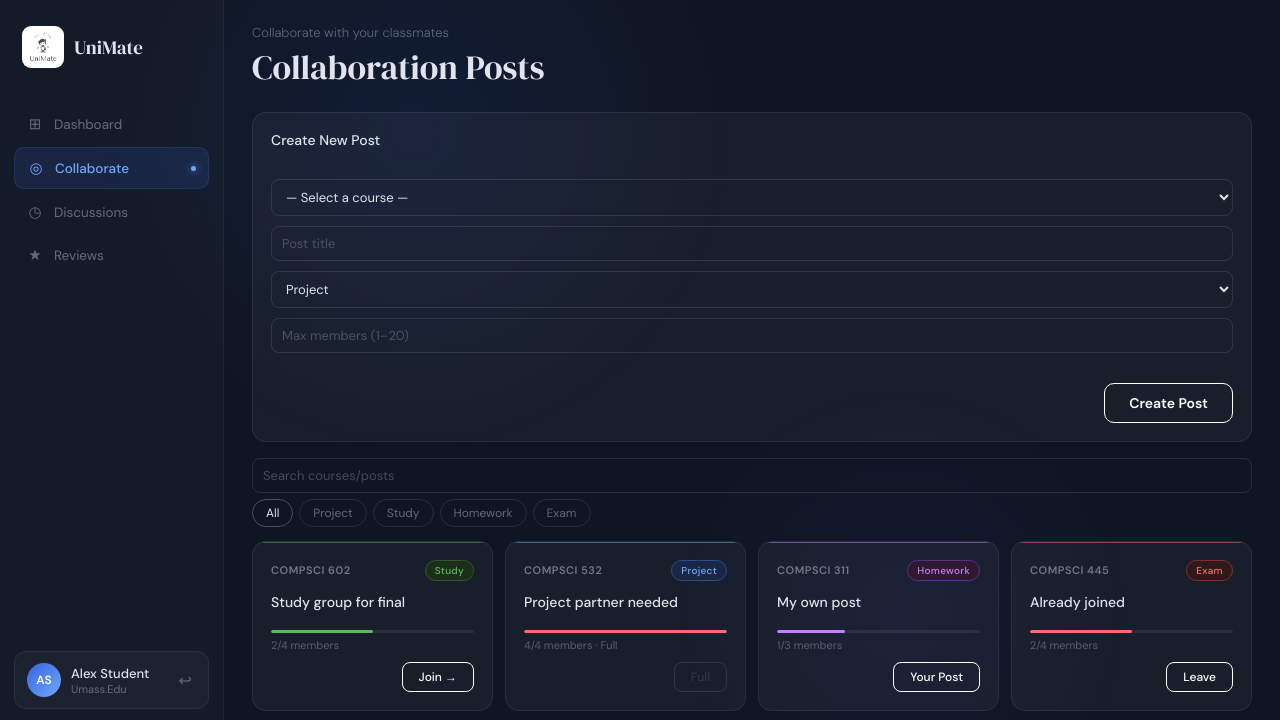
Test: CollaboratePage › author post › closes modal when Escape key pressed
Click the button "Your Post" at (937, 677), box [893, 662, 980, 692]
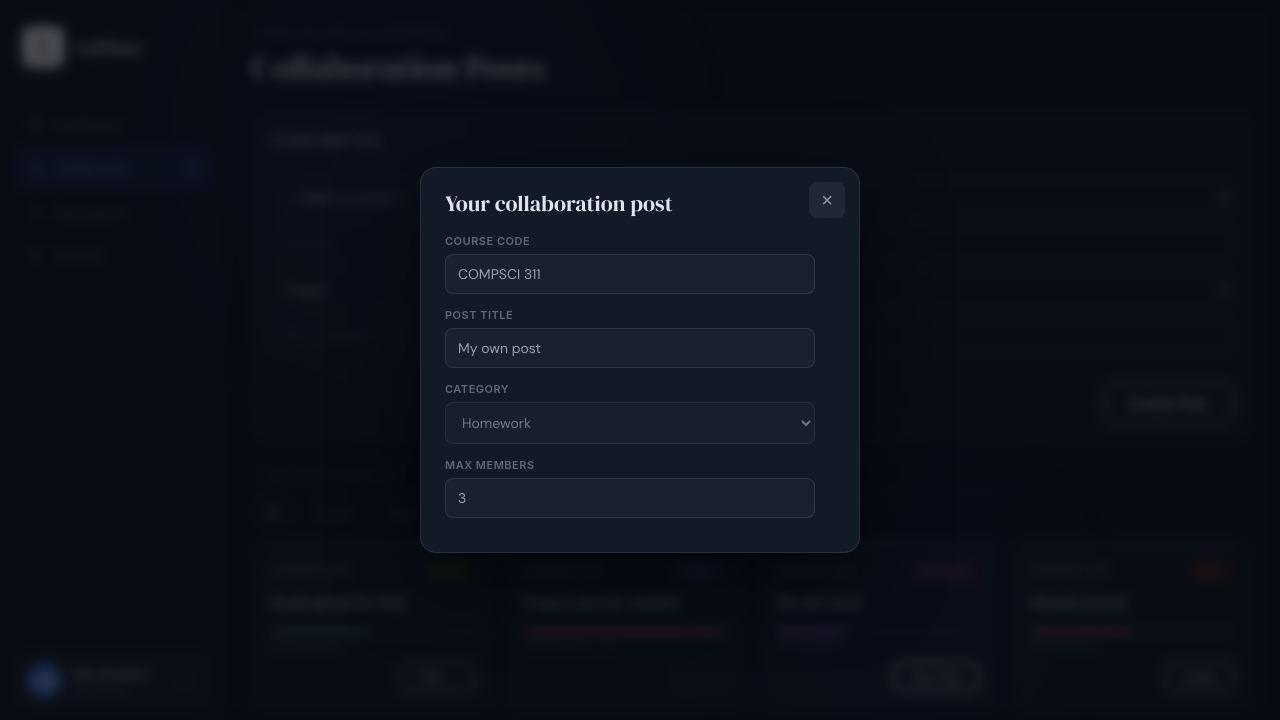
Check: the heading "Your collaboration post" is shown, box [445, 188, 673, 218]
Press Escape
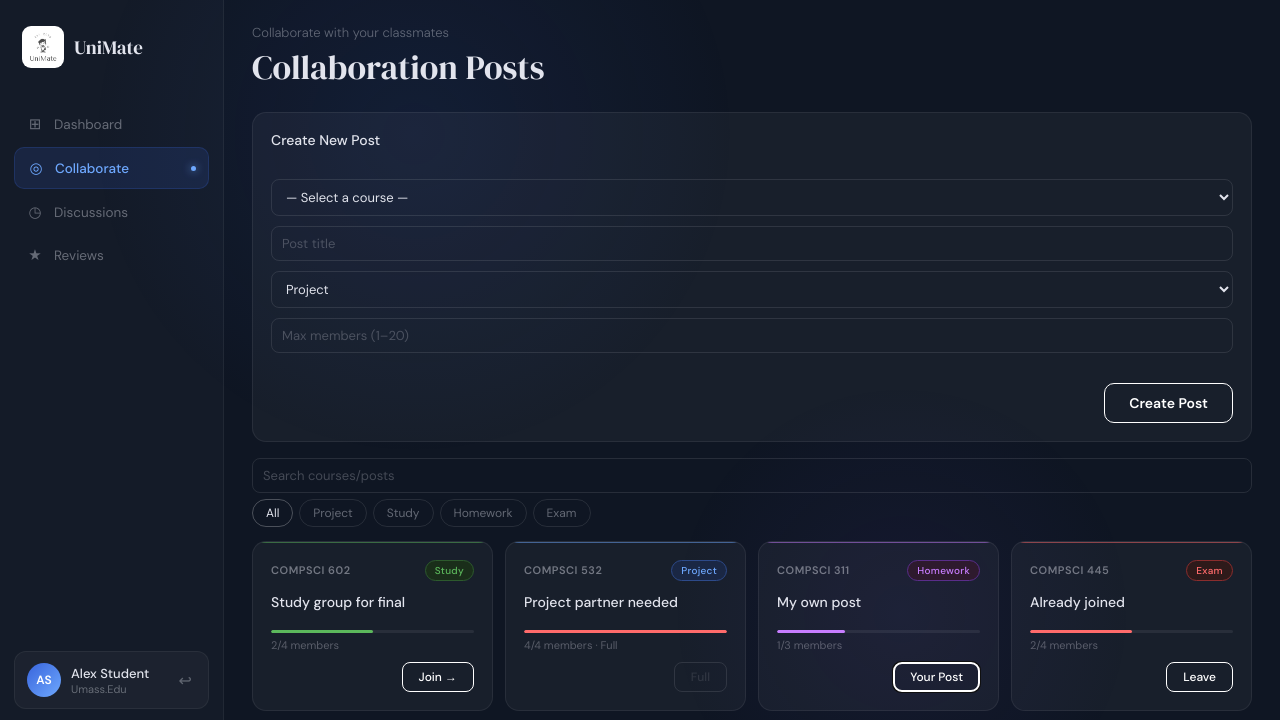
Check: the heading "Your collaboration post" is gone
